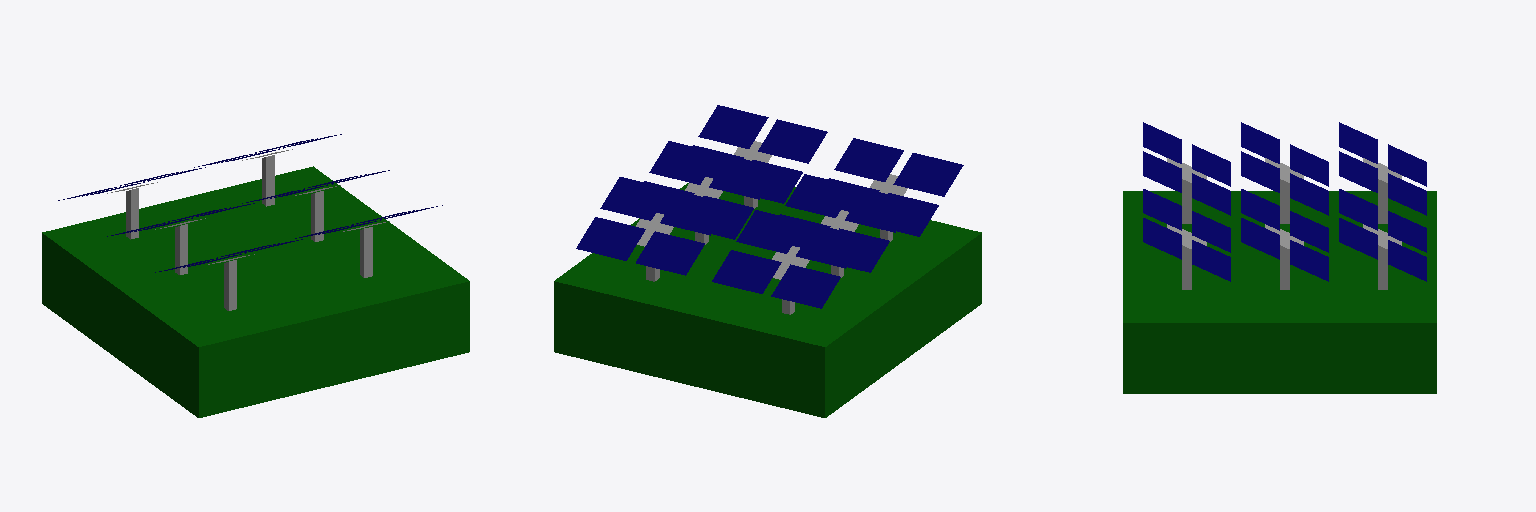
3 renders of one model, left to right at view 1: azimuth 30°, elevation 25°; view 2: azimuth 150°, elevation 25°; view 3: azimuth 270°, elevation 25°, orthographic.
Parts seen in each view (by area): view 1: grass, bar, plane; view 2: grass, plane, bar; view 3: grass, plane, bar.
Part boxes in pixels (x1,y1,x2,y2): grass: (42,166,469,417); bar: (126,155,372,310); plane: (58,134,442,272); grass: (554,183,981,417); plane: (576,105,963,308); bar: (646,196,892,314); grass: (1123,191,1436,393); plane: (1143,122,1426,281); bar: (1182,179,1387,289).
Size of the model in its own units: 1 by 0.5063 by 1.
3 materials, 3 textured.